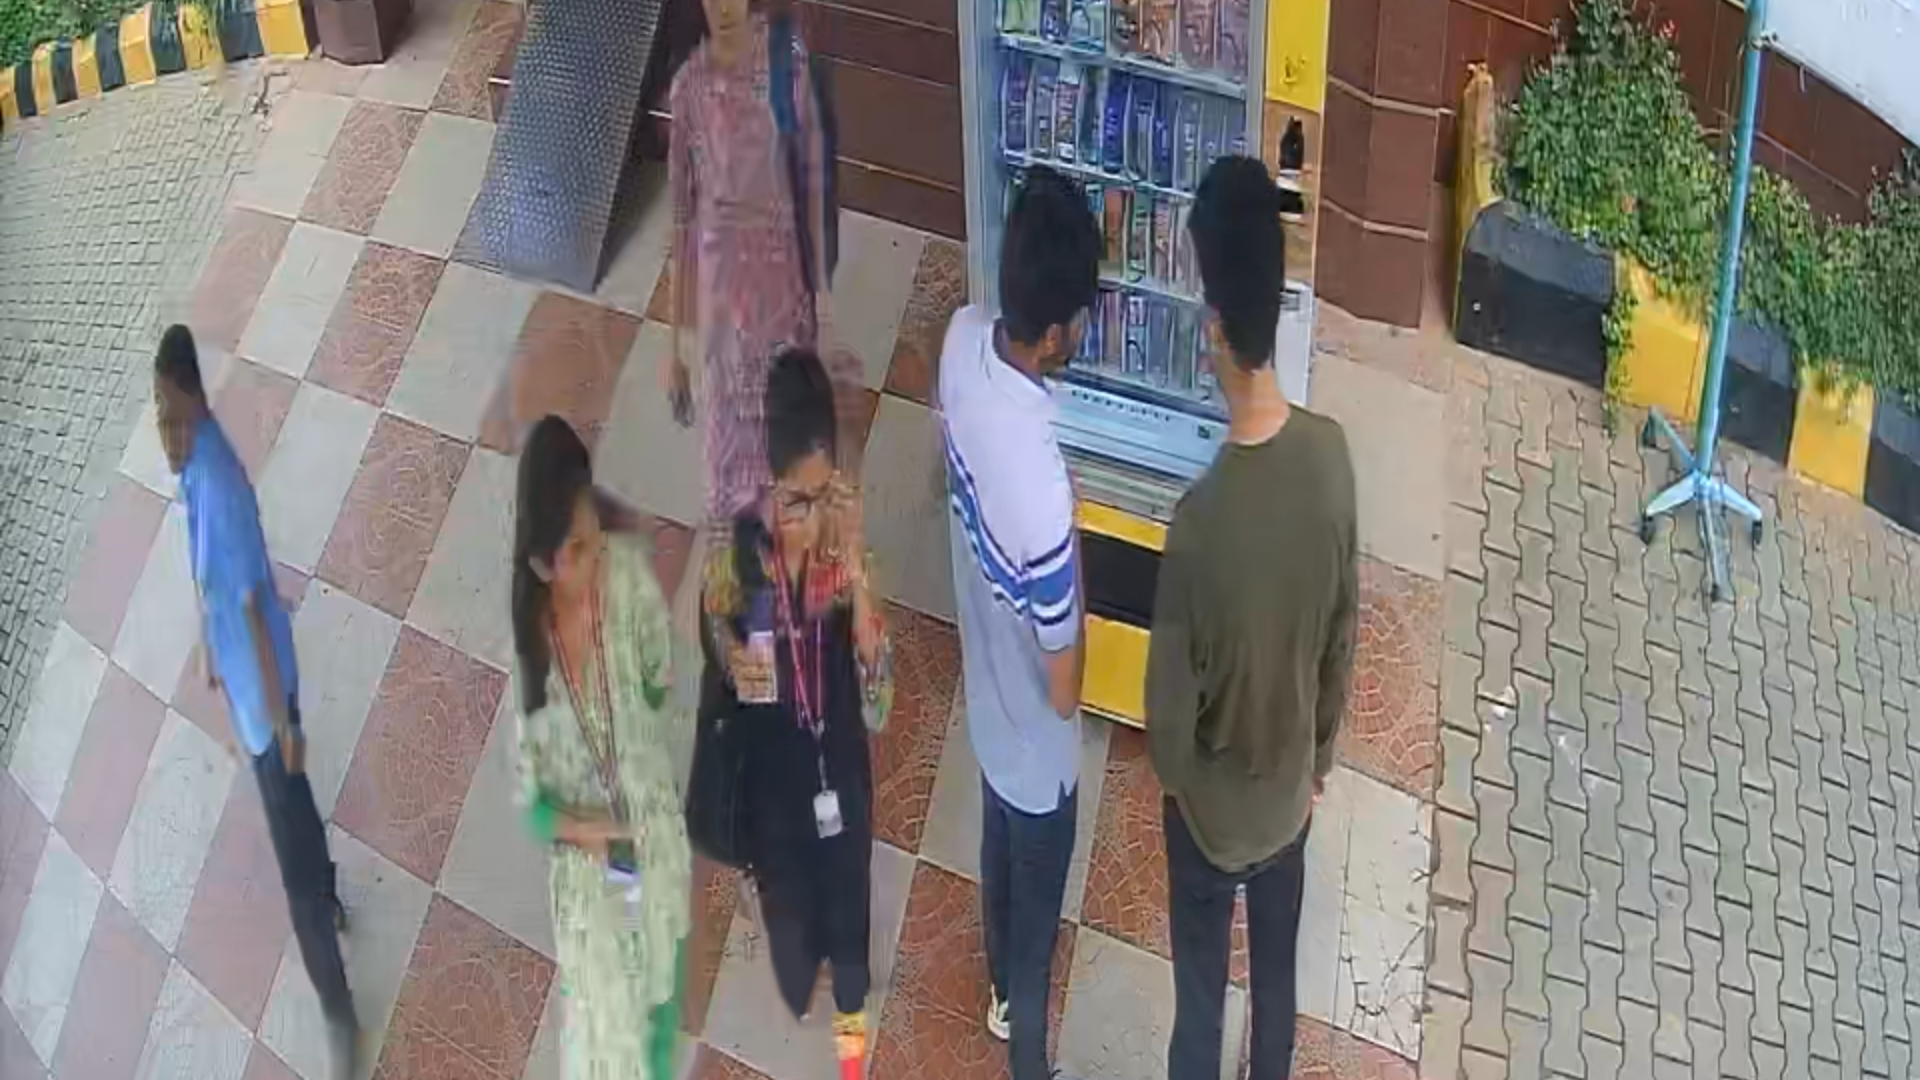not intruder: (509, 404, 684, 1076), (729, 367, 877, 1080)
